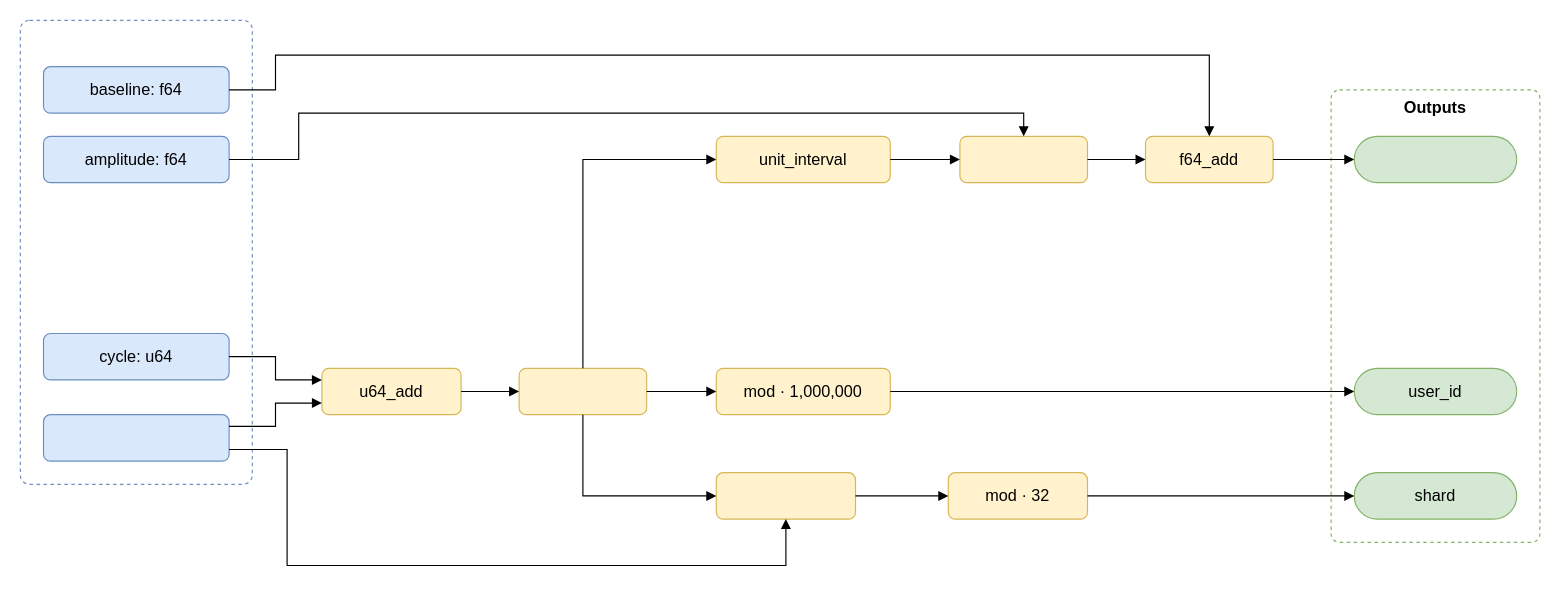
The diagram is 1560 pixels wide and 595 high, and some of its shapes have lost their labels. The box of each missing label's shape, as (x1, y1, x2, y2) in pixels:
f64_mul: (959, 135, 1088, 183)
hash: (518, 367, 647, 415)
Inputs: (19, 19, 252, 484)
score: (1353, 135, 1517, 183)
tenant_seed: u64: (42, 414, 229, 461)
u64_xor: (715, 472, 855, 519)
